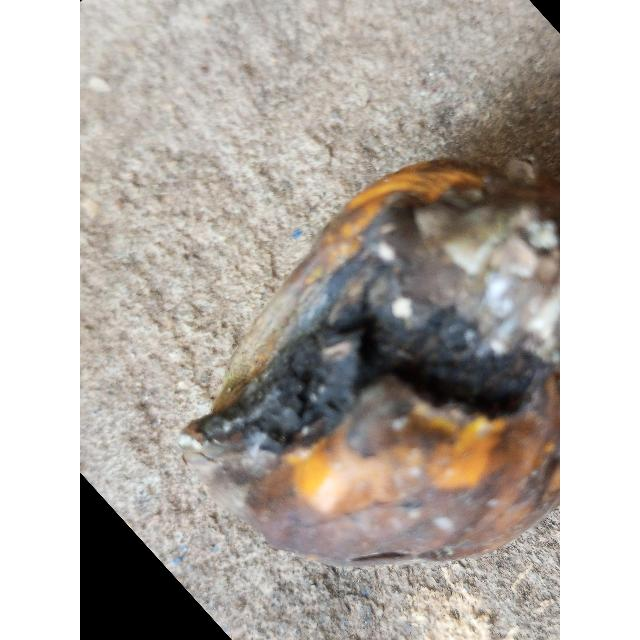damaged: (177, 157, 560, 567)
